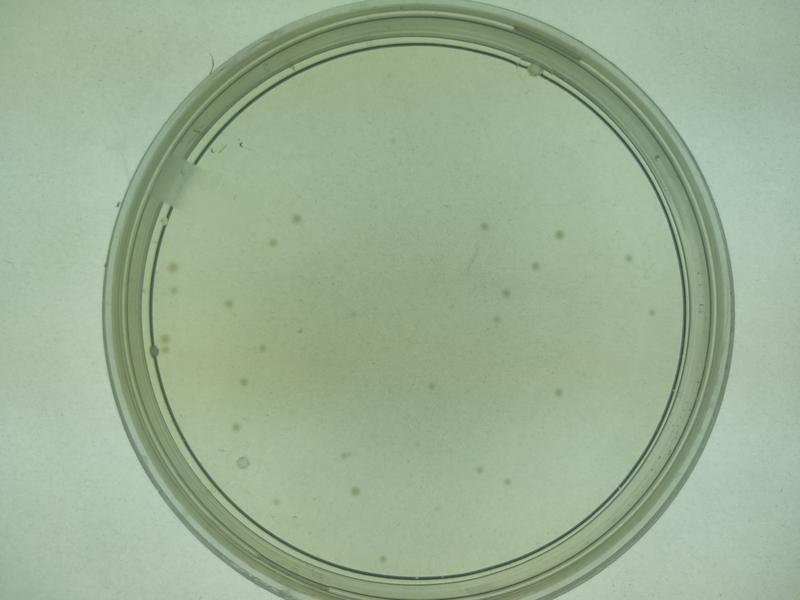colony: (473, 218, 493, 236), (527, 259, 544, 279), (555, 225, 570, 244), (220, 295, 236, 312), (254, 339, 269, 357), (471, 457, 485, 476), (265, 235, 280, 252), (236, 375, 251, 392), (425, 379, 439, 397), (622, 252, 638, 267), (551, 385, 565, 402), (501, 472, 515, 489), (229, 422, 243, 436), (645, 309, 659, 323), (289, 212, 304, 225), (348, 483, 360, 499)
